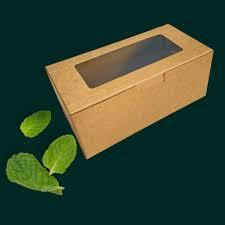box: (45, 22, 212, 160)
